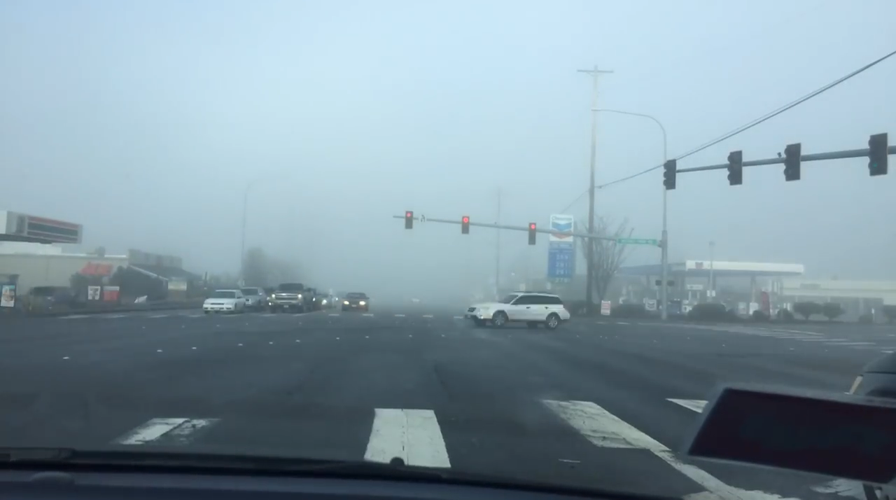car: (462, 289, 571, 332), (268, 279, 315, 314), (199, 287, 247, 315), (234, 285, 268, 311), (247, 282, 276, 309), (340, 290, 371, 313), (304, 288, 334, 309)
